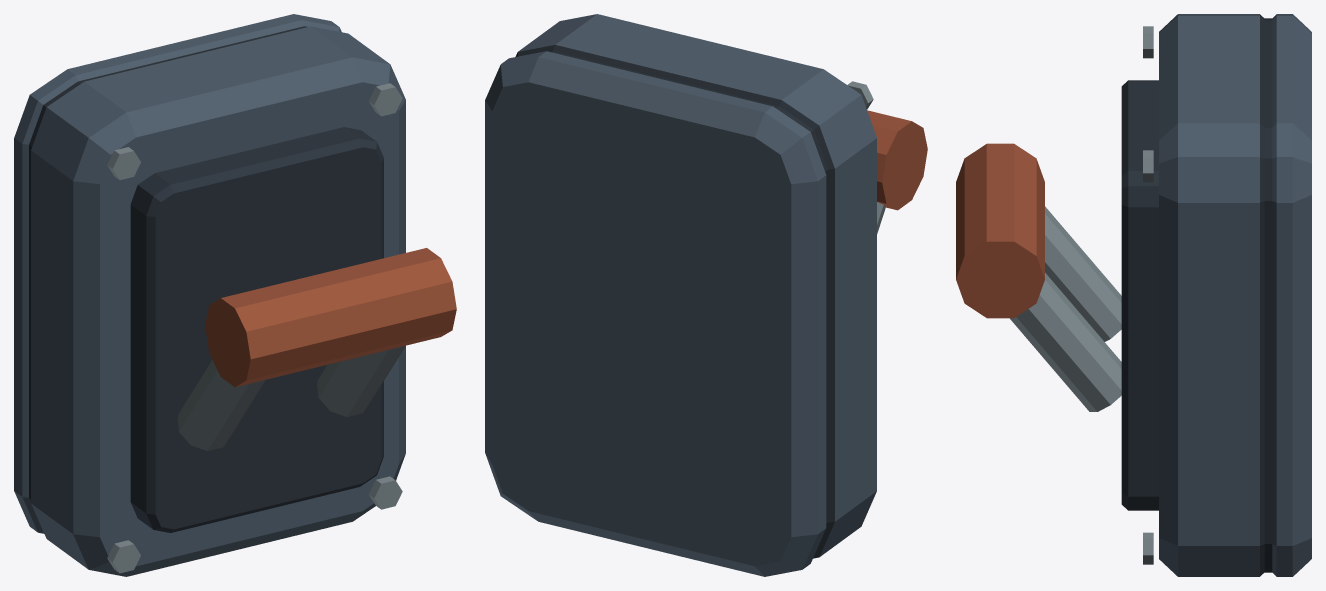
Rendered from PZ-04_light_isolator.glb.
3 views of the same model, side by side, from view 1: azimuth 30°, elevation 25°; view 2: azimuth 150°, elevation 25°; view 3: azimuth 270°, elevation 25° (orthographic). The views are drawn at different scales.
Parts seen in each view (by area): view 1: PZ-04_light_isolator; view 2: PZ-04_light_isolator; view 3: PZ-04_light_isolator.
Boxes of the visible parts, x1=… form: PZ-04_light_isolator: x1=14, y1=14, x2=456, y2=576; PZ-04_light_isolator: x1=485, y1=14, x2=927, y2=576; PZ-04_light_isolator: x1=956, y1=14, x2=1311, y2=576.
Bounding box in the file's own units: 0.21 × 0.28 × 0.2.
